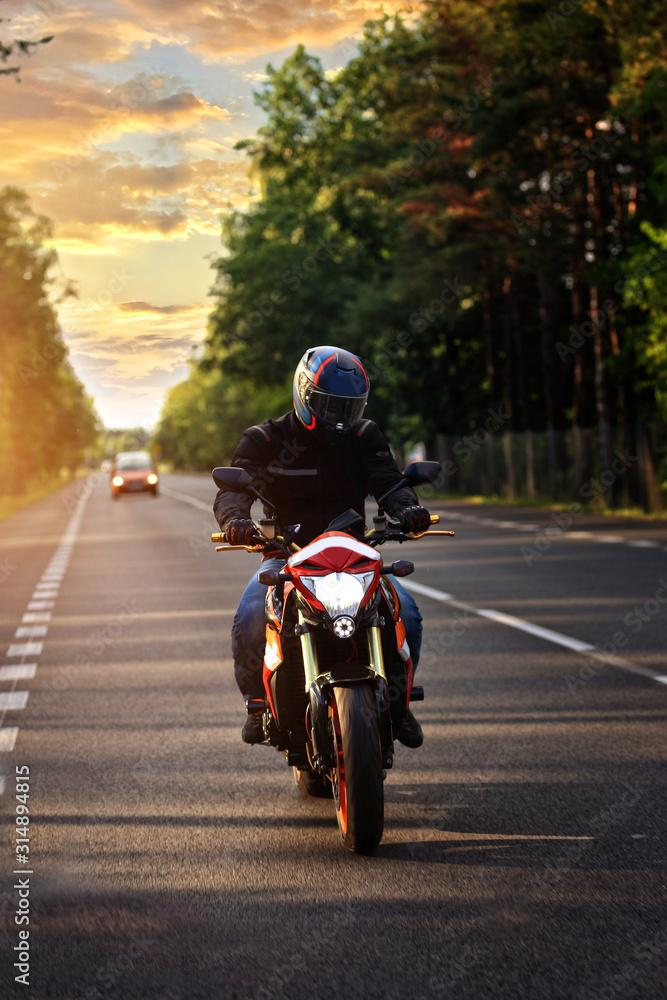helmet: (292, 345, 371, 449)
